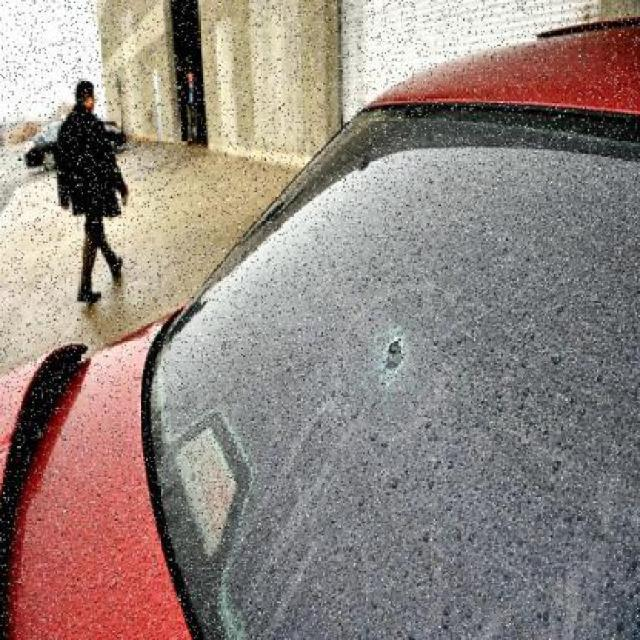Rear-windscreen-Damage: (99, 83, 638, 639)
